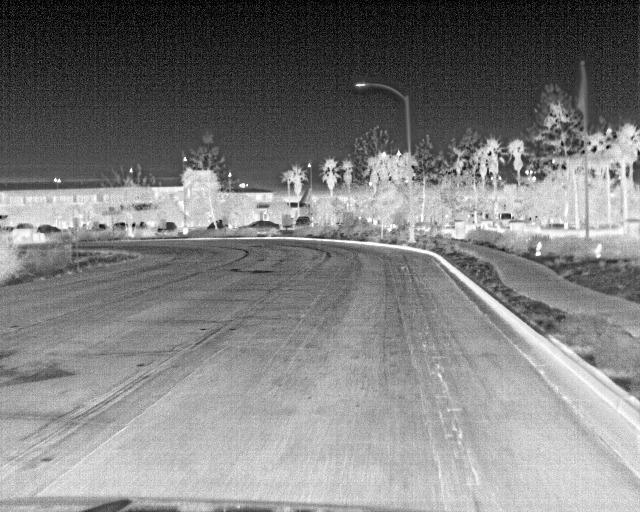car: (240, 222, 282, 238), (157, 221, 179, 238), (293, 214, 313, 231)
